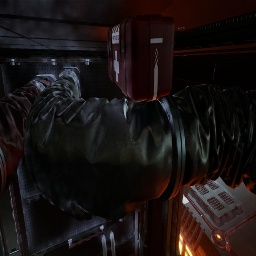FirstAidBox ,: (107, 14, 175, 103)
